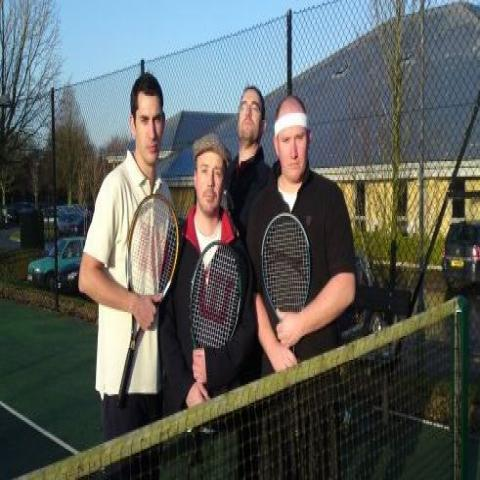car: (342, 264, 412, 341), (442, 218, 480, 296), (27, 236, 87, 276), (41, 204, 70, 243), (68, 204, 90, 238)
